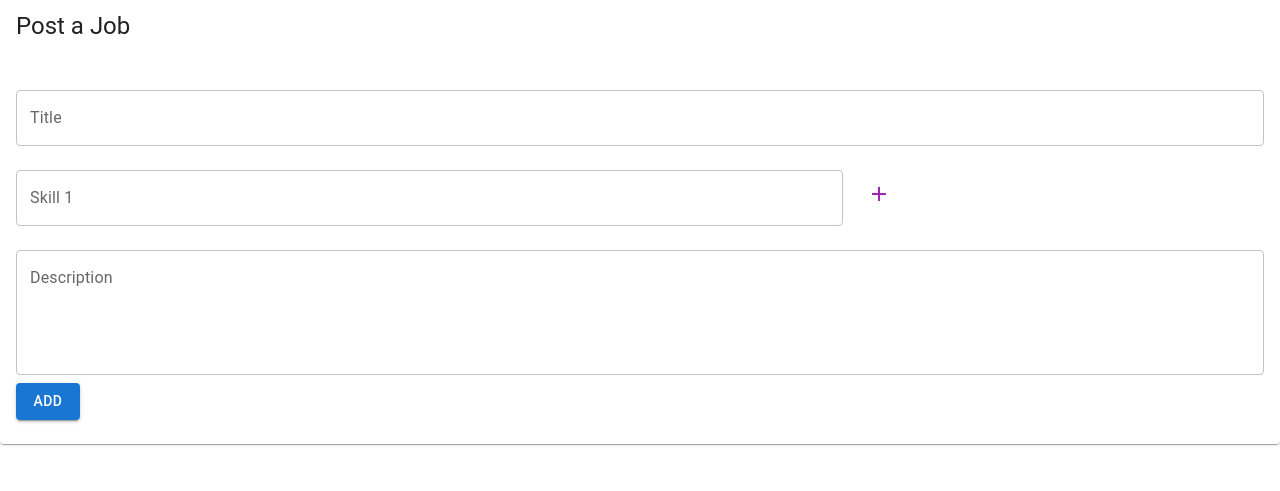
JobForm component interaction › should add skill after clicking skill button.
The image size is (1280, 491).
Type "skill" into the field named "skill" at (429,198), box top-left (16, 170), bottom-right (843, 226)
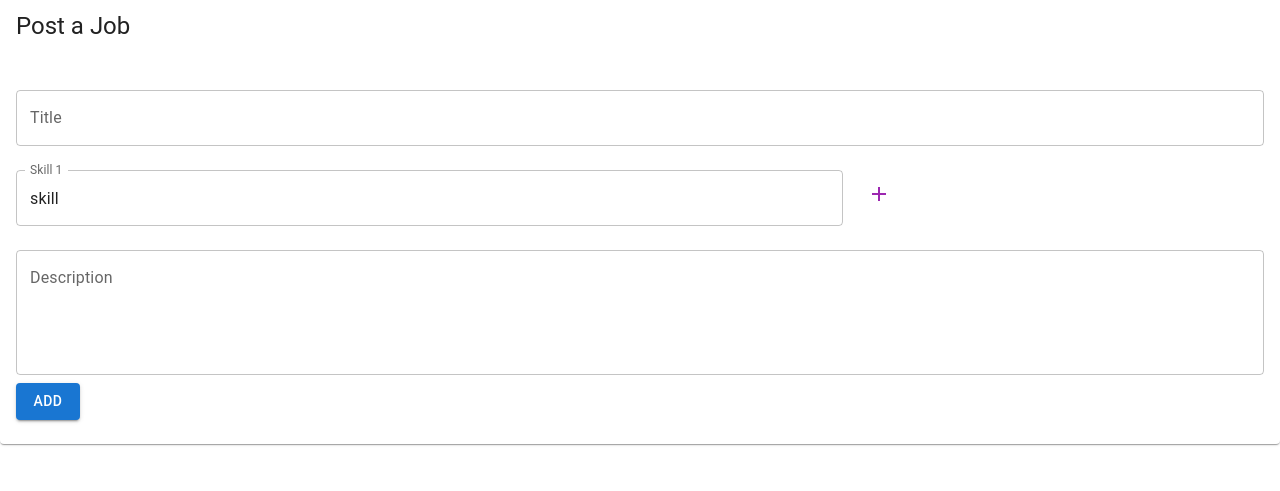
Click the button with id "add_skill" at (879,194), box top-left (859, 154), bottom-right (899, 234)
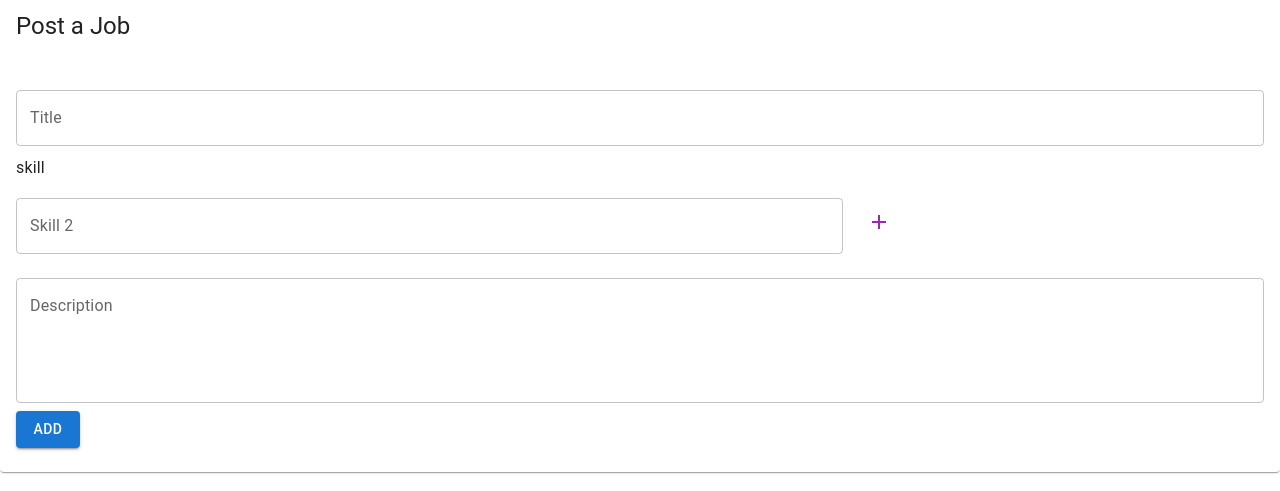
Result: the number of headings is 1 at top-left (16, 158), bottom-right (45, 177)
